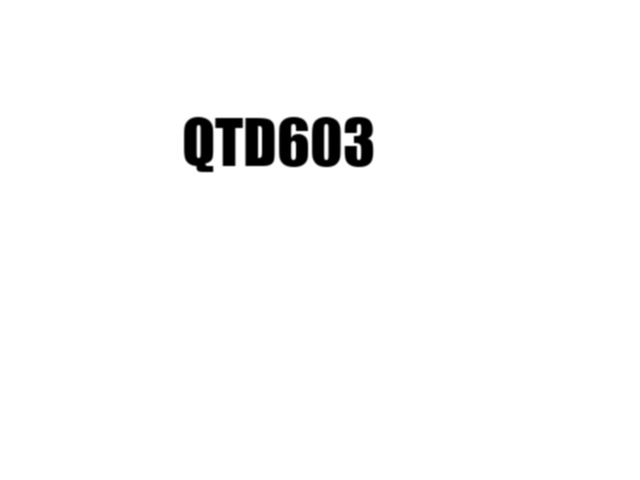OCR_AREA: (178, 113, 379, 176)
